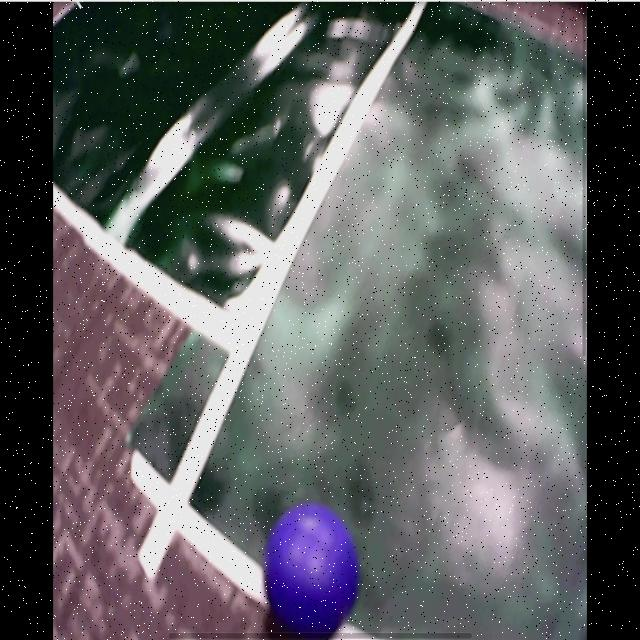ball: (266, 506, 359, 637)
